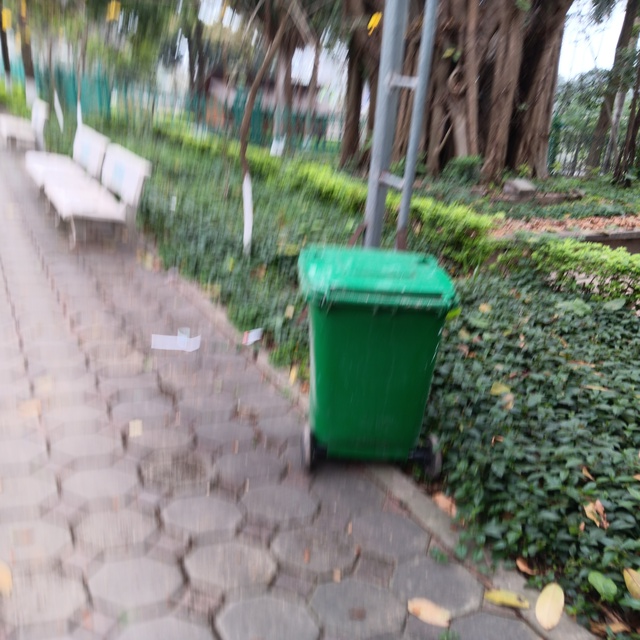thungrac: (285, 235, 446, 484)
